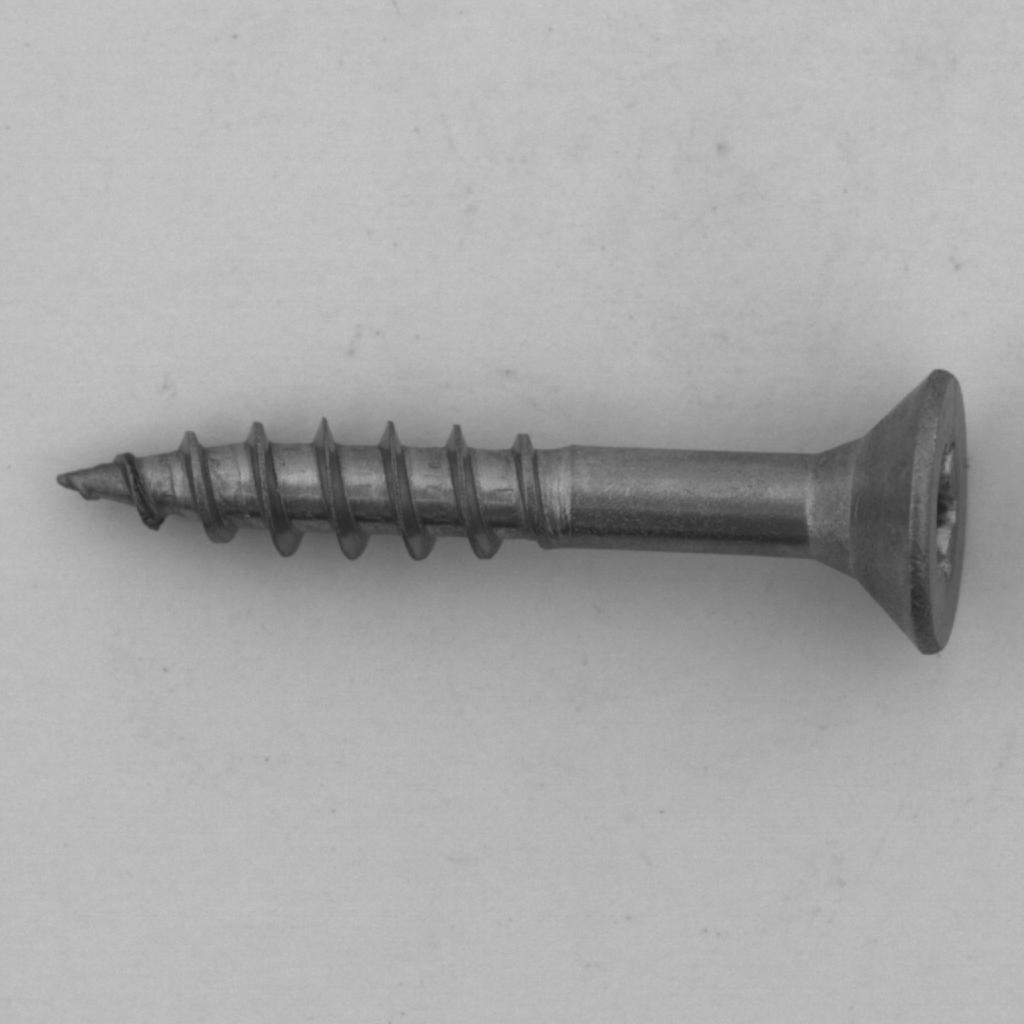good: (64, 360, 1000, 675)
